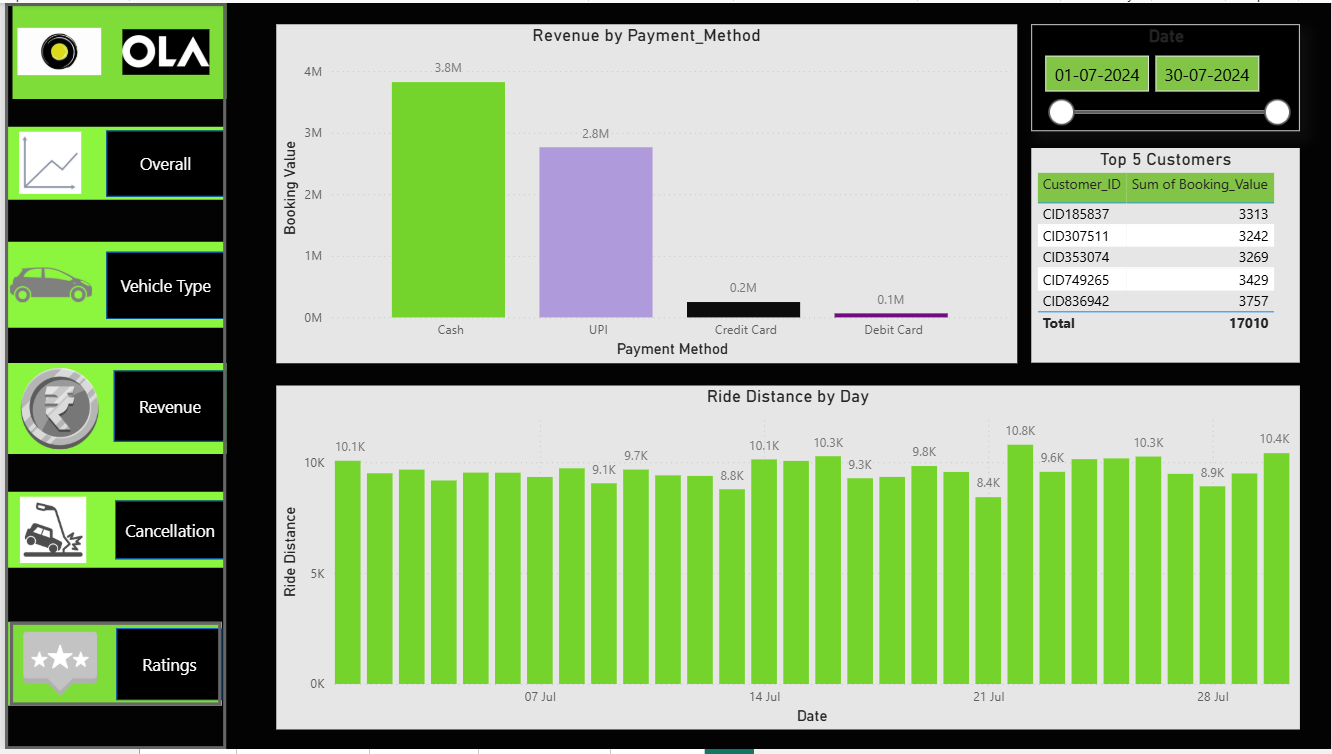

The page's visual inventory and layout, read from the dashboard file:
{"tool":"powerbi","page":{"name":"Revenue","canvas":[1280,720],"ordinal":2},"visuals":[{"type":"group","id":"g1","title":"Group 6","box":[7.2,0,206.3,92.9],"z":0},{"type":"group","id":"g2","title":"Group 7","box":[0,119.4,212.3,70],"z":1000},{"type":"group","id":"g3","title":"Group 3","box":[0,230.4,212.3,83.2],"z":2000},{"type":"group","id":"g4","title":"Group 1","box":[0,597.2,209.9,80.8],"z":3000},{"type":"group","id":"g5","title":"Group 5","box":[0,471.7,212.3,73.6],"z":4000},{"type":"image","box":[7.2,0,90.3,92.9],"z":5000,"group":"g1"},{"type":"group","id":"g6","title":"Group 8","box":[2.4,347.5,210.6,88.1],"z":5000},{"type":"actionButton","box":[0,0,213.5,720.2],"z":6000},{"type":"image","box":[96.7,20.2,117.2,53.9],"z":6000,"group":"g1"},{"type":"image","box":[0,471.7,92.1,73.6],"z":7000,"group":"g7"},{"type":"actionButton","box":[4.8,597.2,203.9,80.8],"z":7000},{"type":"columnChart","title":"Revenue by Payment_Method","fields":{"Category":["July.Payment_Method"],"Y":["Sum(July.Booking_Value)"]},"box":[262,20,715,326.9],"z":8000},{"type":"image","box":[0,230.4,89,83.2],"z":8000,"group":"g3"},{"type":"columnChart","title":"Ride Distance by Day","fields":{"Category":["July.Date"],"Y":["Sum(July.Ride_Distance)"]},"box":[262.1,369.1,988,332.1],"z":9000},{"type":"slicer","title":"Date","fields":{"Values":["July.Date"]},"box":[990.8,20,259.5,103.6],"z":10000},{"type":"image","box":[0,597.2,106.2,80.8],"z":10000,"group":"g4"},{"type":"image","box":[0,119.4,86.6,70],"z":11000,"group":"g8"},{"type":"tableEx","title":"Top 5 Customers","fields":{"Values":["July.Customer_ID","Sum(July.Booking_Value)"]},"box":[990.8,139.8,259.5,207.1],"z":11000},{"type":"image","box":[2.4,347.5,100.7,88.1],"z":11001,"group":"g6"},{"type":"group","id":"g7","title":"Group 4","box":[0,471.7,92.1,73.6],"z":11005,"group":"g5"},{"type":"group","id":"g8","title":"Group 2","box":[0,119.4,86.6,70],"z":11007,"group":"g2"},{"type":"shape","box":[97.9,123,114.4,63.9],"z":11014,"group":"g2"},{"type":"shape","box":[97.7,239.5,114.6,65.1],"z":11015,"group":"g3"},{"type":"shape","box":[104.4,354.3,108.6,68.8],"z":11016,"group":"g6"},{"type":"shape","box":[106.2,480.5,106.2,56.7],"z":11017,"group":"g5"},{"type":"shape","box":[107.4,603.2,102.5,70],"z":11018,"group":"g4"}]}

Visuals, with their boxes in screenshot pixels (x1, y1, x2, y2), scaled from the page's 1280x720 canvas onto the 1332x754 screenshot:
"Group 6" group: pyautogui.locateOnScreen(7, 0, 222, 97)
"Group 7" group: pyautogui.locateOnScreen(0, 125, 221, 198)
"Group 3" group: pyautogui.locateOnScreen(0, 241, 221, 328)
"Group 1" group: pyautogui.locateOnScreen(0, 625, 218, 710)
"Group 5" group: pyautogui.locateOnScreen(0, 494, 221, 571)
image: pyautogui.locateOnScreen(7, 0, 101, 97)
"Group 8" group: pyautogui.locateOnScreen(2, 364, 222, 456)
actionButton: pyautogui.locateOnScreen(0, 0, 222, 753)
image: pyautogui.locateOnScreen(101, 21, 223, 78)
image: pyautogui.locateOnScreen(0, 494, 96, 571)
actionButton: pyautogui.locateOnScreen(5, 625, 217, 710)
"Revenue by Payment_Method" columnChart: pyautogui.locateOnScreen(273, 21, 1017, 363)
image: pyautogui.locateOnScreen(0, 241, 93, 328)
"Ride Distance by Day" columnChart: pyautogui.locateOnScreen(273, 387, 1301, 734)
"Date" slicer: pyautogui.locateOnScreen(1031, 21, 1301, 129)
image: pyautogui.locateOnScreen(0, 625, 111, 710)
image: pyautogui.locateOnScreen(0, 125, 90, 198)
"Top 5 Customers" tableEx: pyautogui.locateOnScreen(1031, 146, 1301, 363)
image: pyautogui.locateOnScreen(2, 364, 107, 456)
"Group 4" group: pyautogui.locateOnScreen(0, 494, 96, 571)
"Group 2" group: pyautogui.locateOnScreen(0, 125, 90, 198)
shape: pyautogui.locateOnScreen(102, 129, 221, 196)
shape: pyautogui.locateOnScreen(102, 251, 221, 319)
shape: pyautogui.locateOnScreen(109, 371, 222, 443)
shape: pyautogui.locateOnScreen(111, 503, 221, 563)
shape: pyautogui.locateOnScreen(112, 632, 218, 705)
